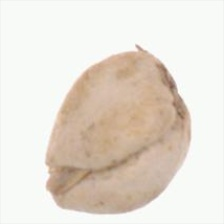L3: (44, 157, 63, 208)
L4: (44, 46, 193, 215)
